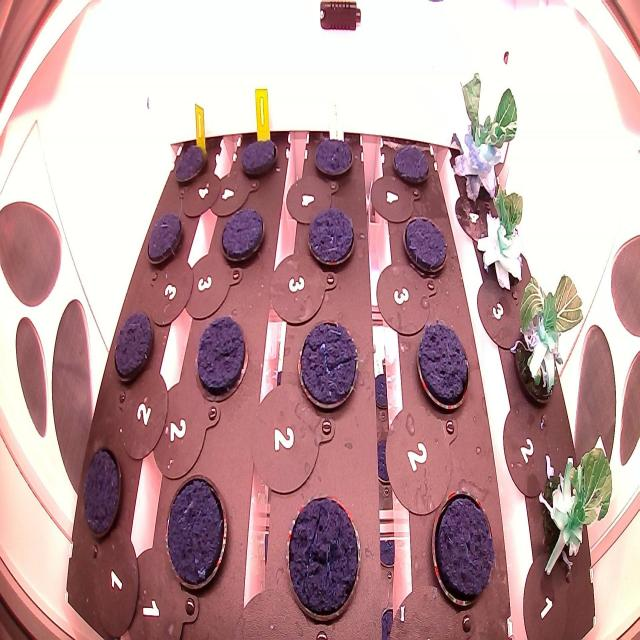pod: (278, 488, 369, 633), (162, 466, 233, 595), (428, 485, 498, 613), (412, 304, 474, 416), (292, 313, 361, 412), (190, 310, 248, 410), (80, 442, 125, 548), (304, 201, 362, 281), (110, 307, 160, 391), (400, 208, 453, 278), (218, 202, 267, 272), (310, 127, 361, 188), (387, 135, 438, 193), (142, 208, 186, 272), (235, 134, 282, 184), (172, 136, 211, 192)
